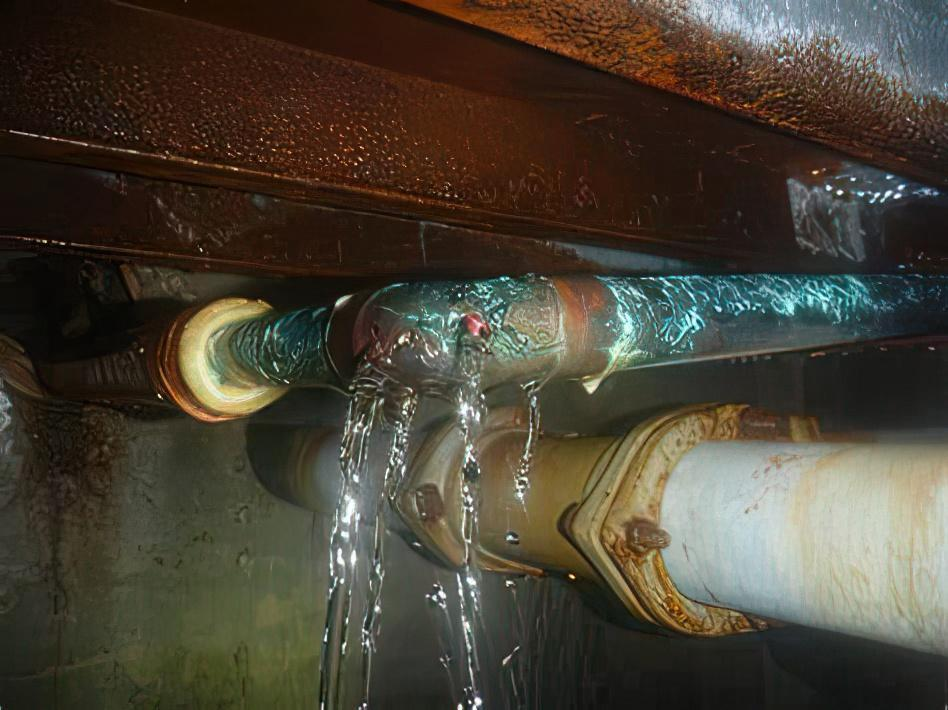water drop: (514, 478, 527, 497), (505, 531, 520, 546), (503, 578, 518, 590)
